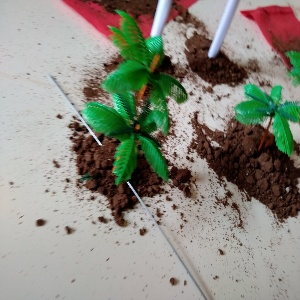plant: (84, 9, 173, 172), (232, 74, 300, 160)
